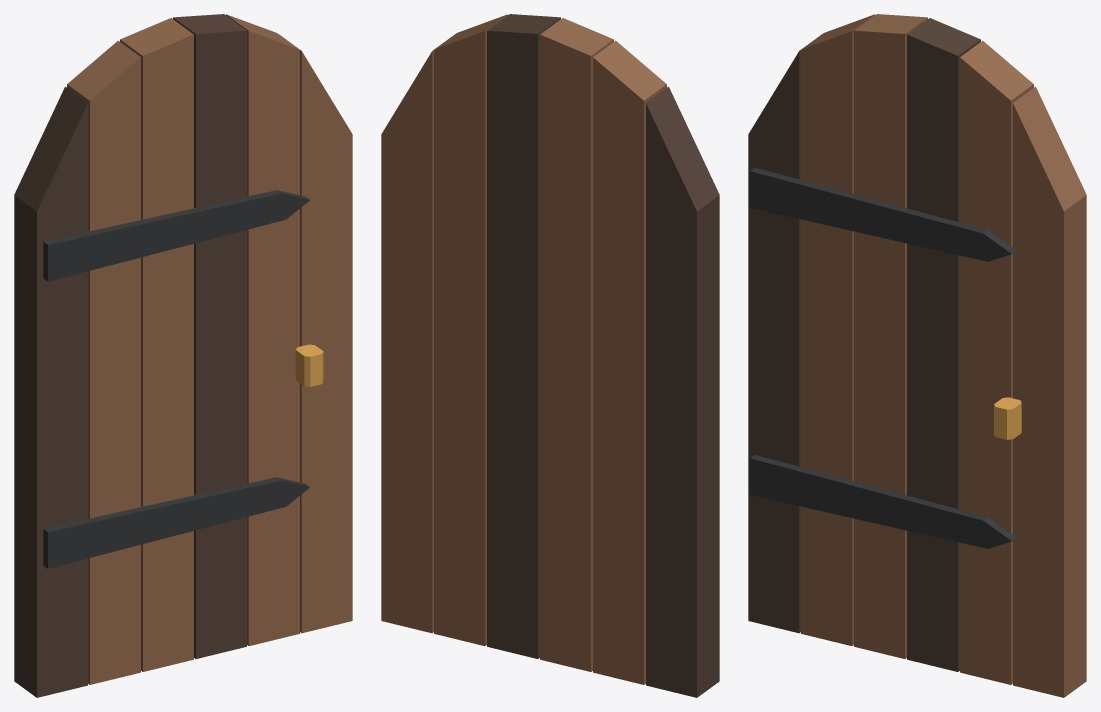
The model's file is postern_door.glb.
The picture shows the model from 3 angles, left to right: view 1: azimuth 30°, elevation 25°; view 2: azimuth 150°, elevation 25°; view 3: azimuth 330°, elevation 25°; orthographic projection.
Visible parts, largest first — view 1: Postern door; view 2: Postern door; view 3: Postern door.
Part boxes in pixels (x1,y1,x2,y2): Postern door: (14, 14, 352, 697); Postern door: (381, 14, 719, 697); Postern door: (748, 14, 1086, 697).
Size of the model in its own units: 0.656 by 1.24 by 0.129.
